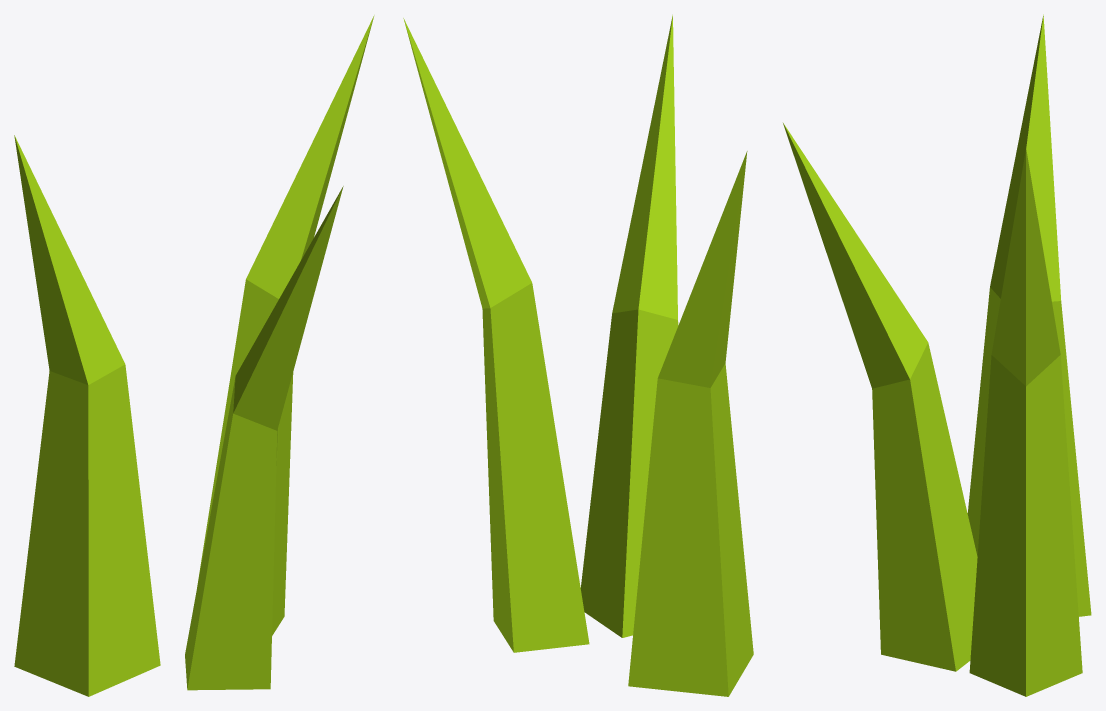
File: grass2.fbx
3 views of the same model, side by side, from view 1: azimuth 30°, elevation 25°; view 2: azimuth 150°, elevation 25°; view 3: azimuth 270°, elevation 25° (orthographic). The views are drawn at different scales.
Parts seen in each view (by area): view 1: Grass2; view 2: Grass2; view 3: Grass2.
Part boxes in pixels (x1=…): Grass2: x1=14, y1=15, x2=374, y2=696; Grass2: x1=403, y1=15, x2=753, y2=696; Grass2: x1=783, y1=14, x2=1091, y2=696.
Size of the model in its own units: 0.1202 by 0.1899 by 0.0893.
